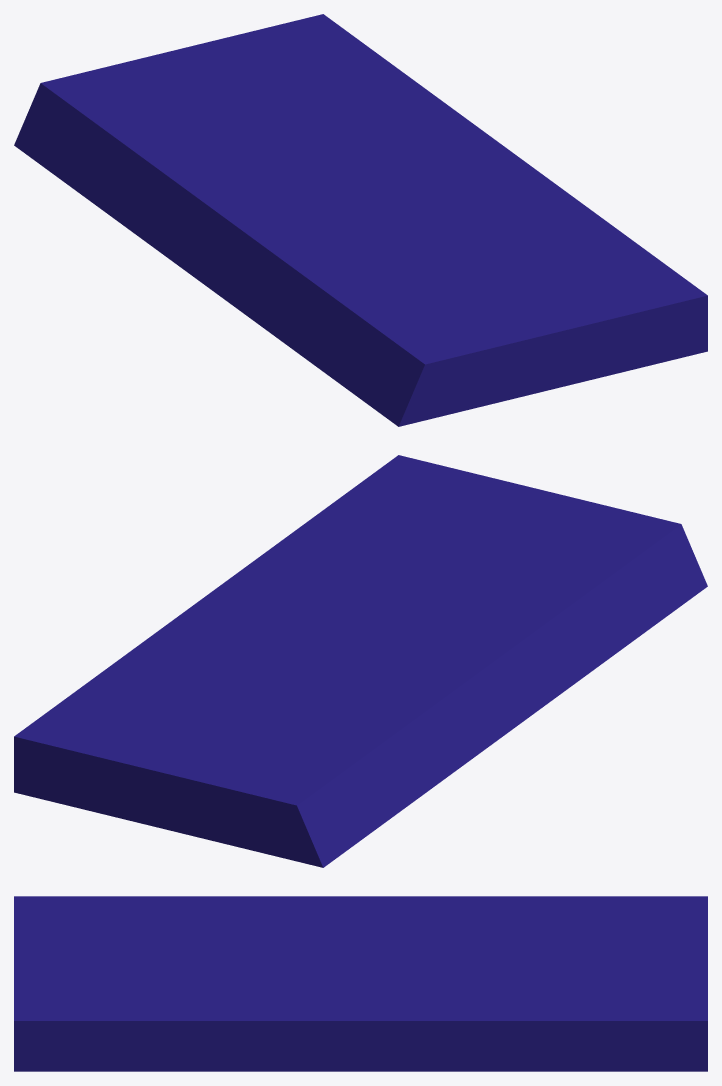
3 views of the same model, one above another, from view 1: azimuth 30°, elevation 25°; view 2: azimuth 150°, elevation 25°; view 3: azimuth 270°, elevation 25° (orthographic). The views are drawn at different scales.
Parts seen in each view (by area): view 1: geometry_18; view 2: geometry_18; view 3: geometry_18.
Boxes of the visible parts, x1,y1,x2,y2 form: geometry_18: (14, 14, 707, 426); geometry_18: (14, 455, 707, 867); geometry_18: (14, 896, 707, 1071).
Size of the model in its own units: 0.0186 by 0.00321 by 0.04.
